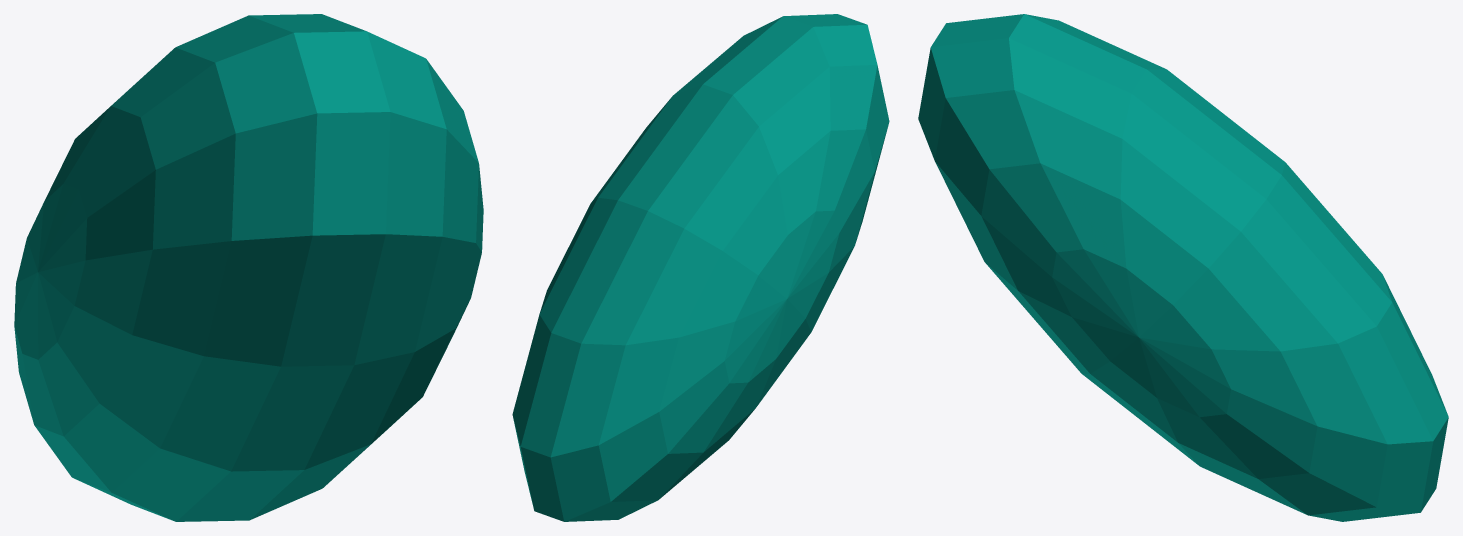
Rendered from n5_group2116141860_lev5.001.glb.
The picture shows the model from 3 angles, left to right: view 1: azimuth 30°, elevation 25°; view 2: azimuth 150°, elevation 25°; view 3: azimuth 270°, elevation 25°; orthographic projection. The views are drawn at different scales.
Parts seen in each view (by area): view 1: n5_group2116141860_lev5.001; view 2: n5_group2116141860_lev5.001; view 3: n5_group2116141860_lev5.001.
Part boxes in pixels (box(x1,y1,x2,y2)): n5_group2116141860_lev5.001: box(14, 14, 483, 521); n5_group2116141860_lev5.001: box(512, 14, 889, 521); n5_group2116141860_lev5.001: box(918, 14, 1448, 521).
Size of the model in its own units: 0.8091 by 1.32 by 1.38.
